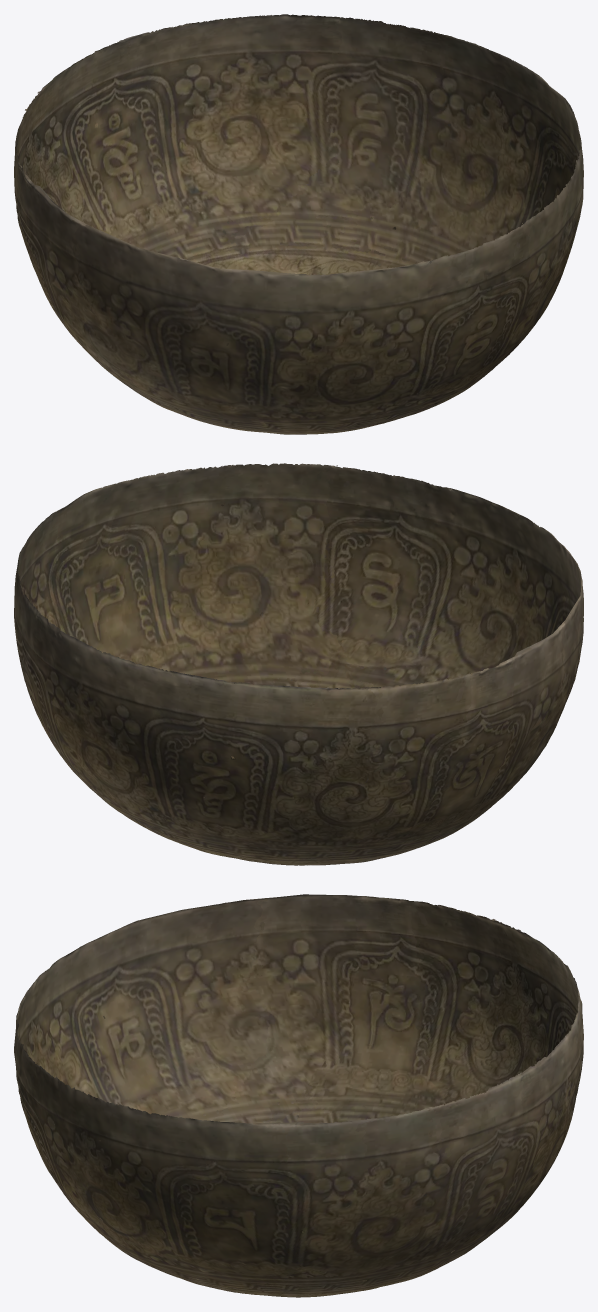
File: tibetianBowl2.glb
The picture shows the model from 3 angles, top to bottom: view 1: azimuth 30°, elevation 25°; view 2: azimuth 150°, elevation 25°; view 3: azimuth 270°, elevation 25°; orthographic projection.
Parts seen in each view (by area): view 1: Stereo textured mesh; view 2: Stereo textured mesh; view 3: Stereo textured mesh.
Part boxes in pixels (x1=…): Stereo textured mesh: x1=14, y1=14, x2=583, y2=434; Stereo textured mesh: x1=14, y1=463, x2=583, y2=865; Stereo textured mesh: x1=14, y1=894, x2=583, y2=1297.
Bounding box in the file's own units: 3.89 × 1.88 × 3.9.
1 material, 1 textured.
